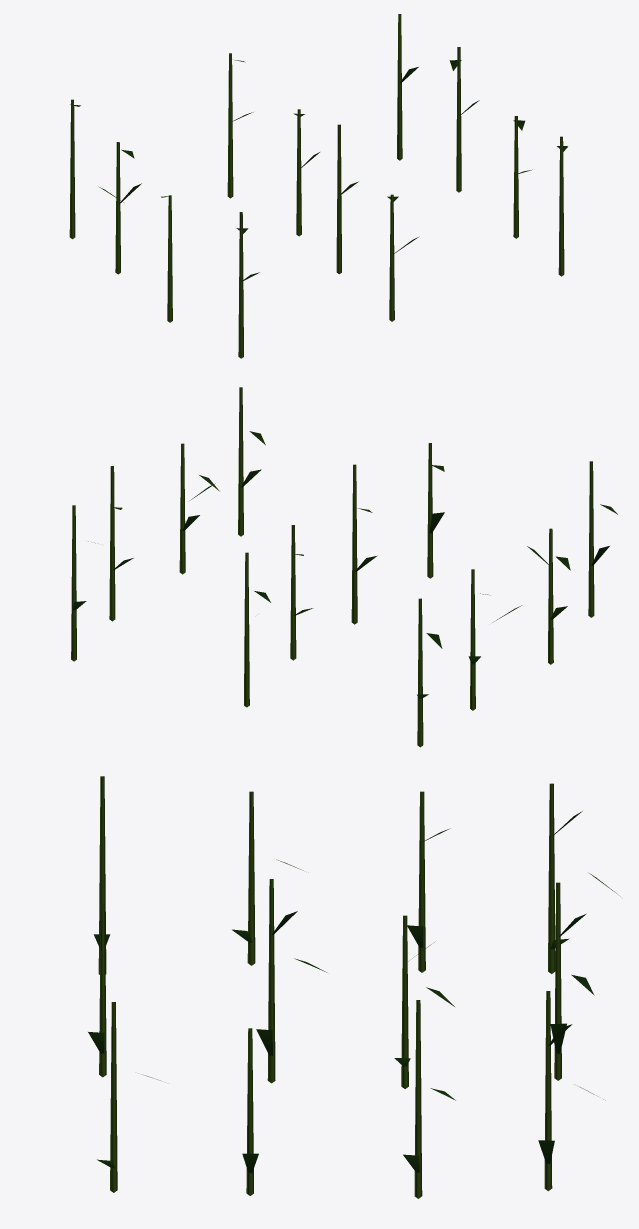
File: fm_maize_2_lod1.glb
3 renders of one model, top to bottom at view 1: azimuth 30°, elevation 25°; view 2: azimuth 150°, elevation 25°; view 3: azimuth 270°, elevation 25°, orthographic. The views are drawn at different scales.
Visible parts, largest first — view 1: fm_maize_2_lod1; view 2: fm_maize_2_lod1; view 3: fm_maize_2_lod1.
Part boxes in pixels (box(x1,y1,x2,y2)): fm_maize_2_lod1: box(69, 14, 567, 358); fm_maize_2_lod1: box(71, 387, 617, 747); fm_maize_2_lod1: box(88, 776, 620, 1198).
Bounding box in the file's own units: 3.62 × 1.11 × 3.03.
